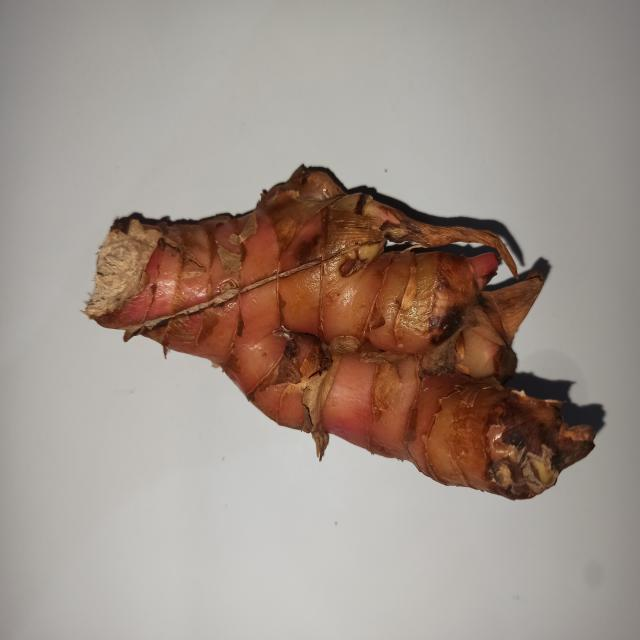ginger: (102, 157, 536, 512)
